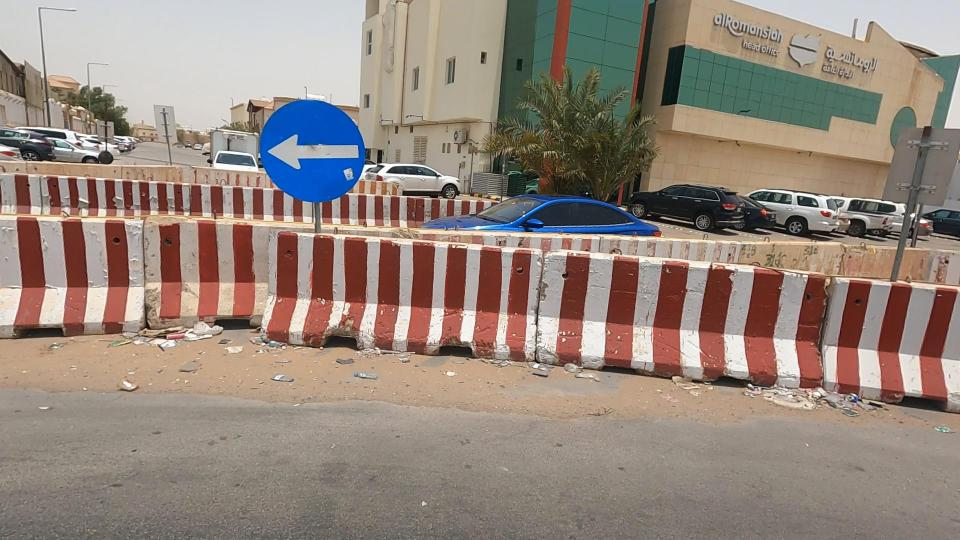CONSTRUCTION_ROAD: (230, 171, 960, 449), (0, 135, 509, 444), (0, 125, 550, 277)
GARBAGE: (693, 333, 946, 461), (67, 285, 285, 384), (462, 337, 648, 423), (291, 324, 426, 407), (71, 340, 192, 426), (234, 342, 331, 410), (230, 322, 315, 365)
